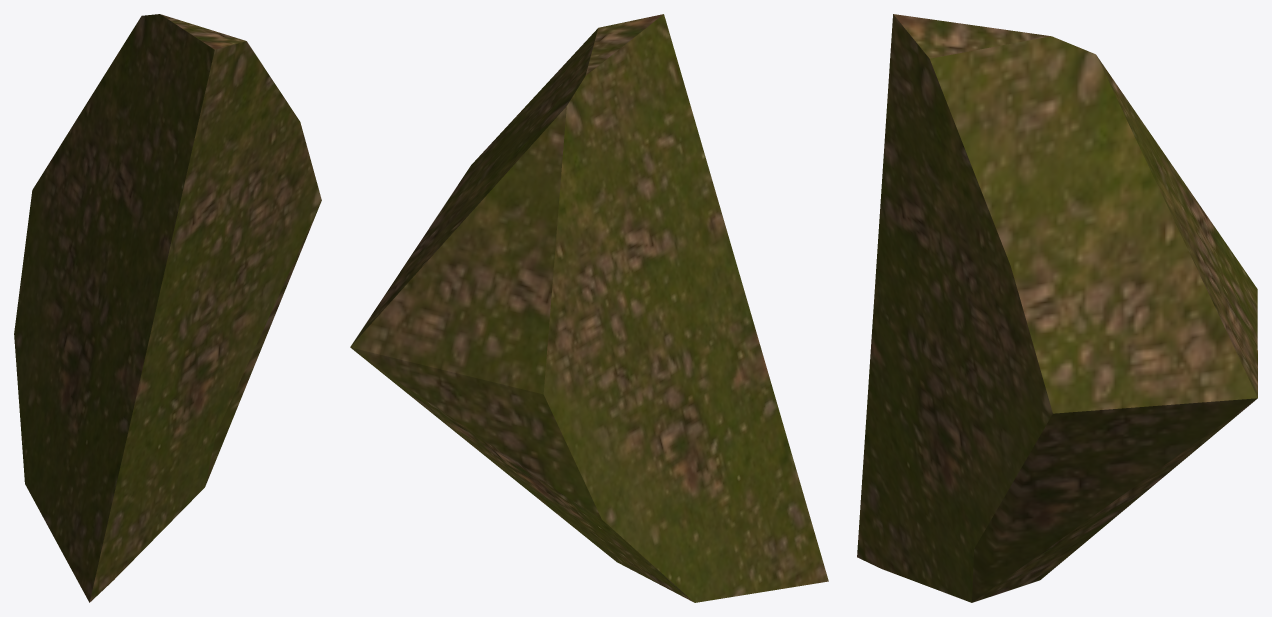
File: kerb_1.glb
The picture shows the model from 3 angles, left to right: view 1: azimuth 30°, elevation 25°; view 2: azimuth 150°, elevation 25°; view 3: azimuth 270°, elevation 25°; orthographic projection. The views are drawn at different scales.
Visible parts, largest first — view 1: kerb; view 2: kerb; view 3: kerb.
Boxes of the visible parts, bbox=[...] form: kerb: bbox=[14, 14, 321, 602]; kerb: bbox=[350, 14, 828, 602]; kerb: bbox=[857, 14, 1257, 602].
Bounding box in the file's own units: 0.1731 × 0.2697 × 0.1562.
1 material, 1 textured.
